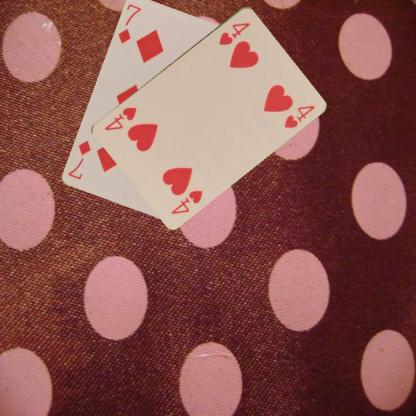4h: (168, 186, 204, 216), (216, 19, 251, 46)
7d: (116, 1, 142, 46)
